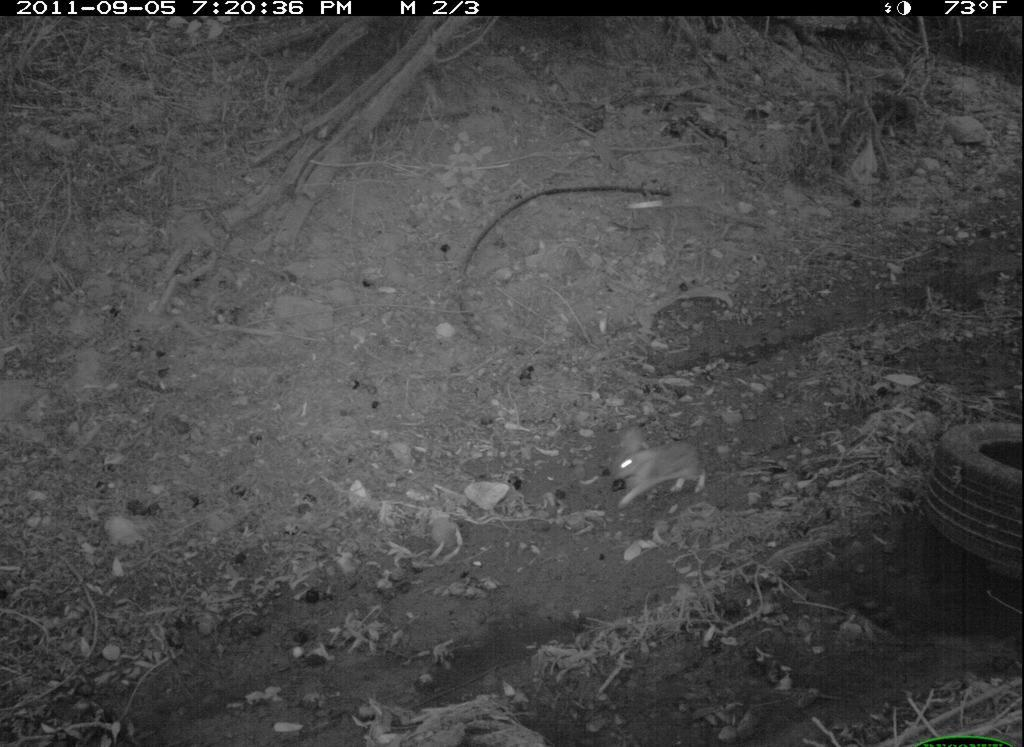rabbit: (600, 414, 716, 514)
